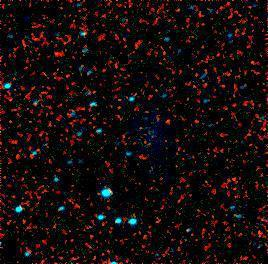star: (153, 102, 183, 132)
